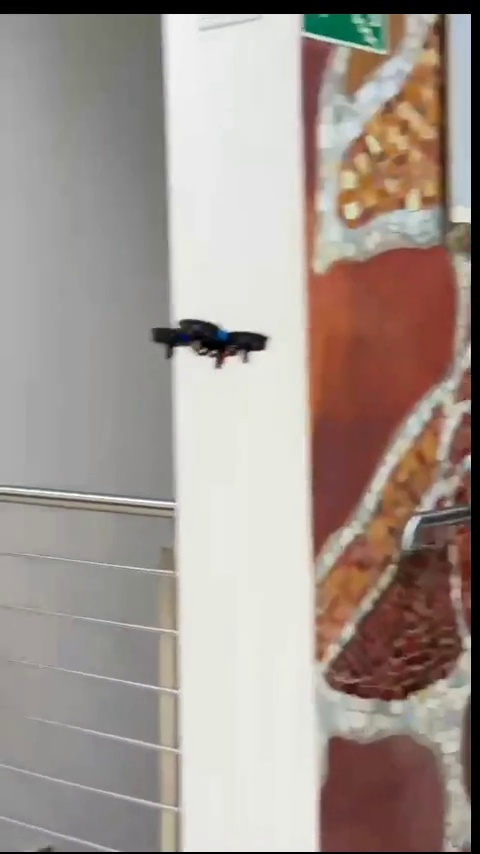drone: (158, 318, 268, 372)
